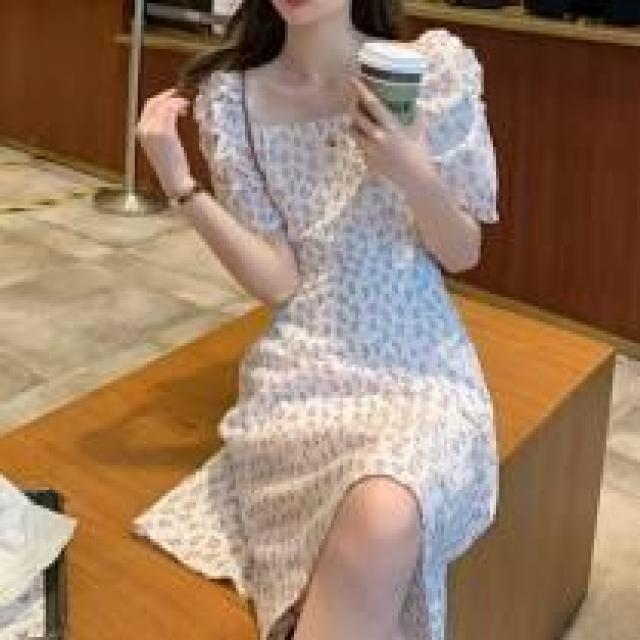dress: (188, 38, 488, 632)
